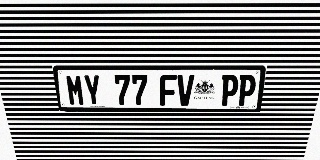7: (113, 75, 131, 106), (131, 75, 148, 106)
F: (160, 75, 177, 106)
M: (65, 75, 85, 106)
P: (236, 75, 257, 106), (220, 75, 239, 106)
V: (177, 75, 194, 106)
Y: (83, 75, 102, 106)
